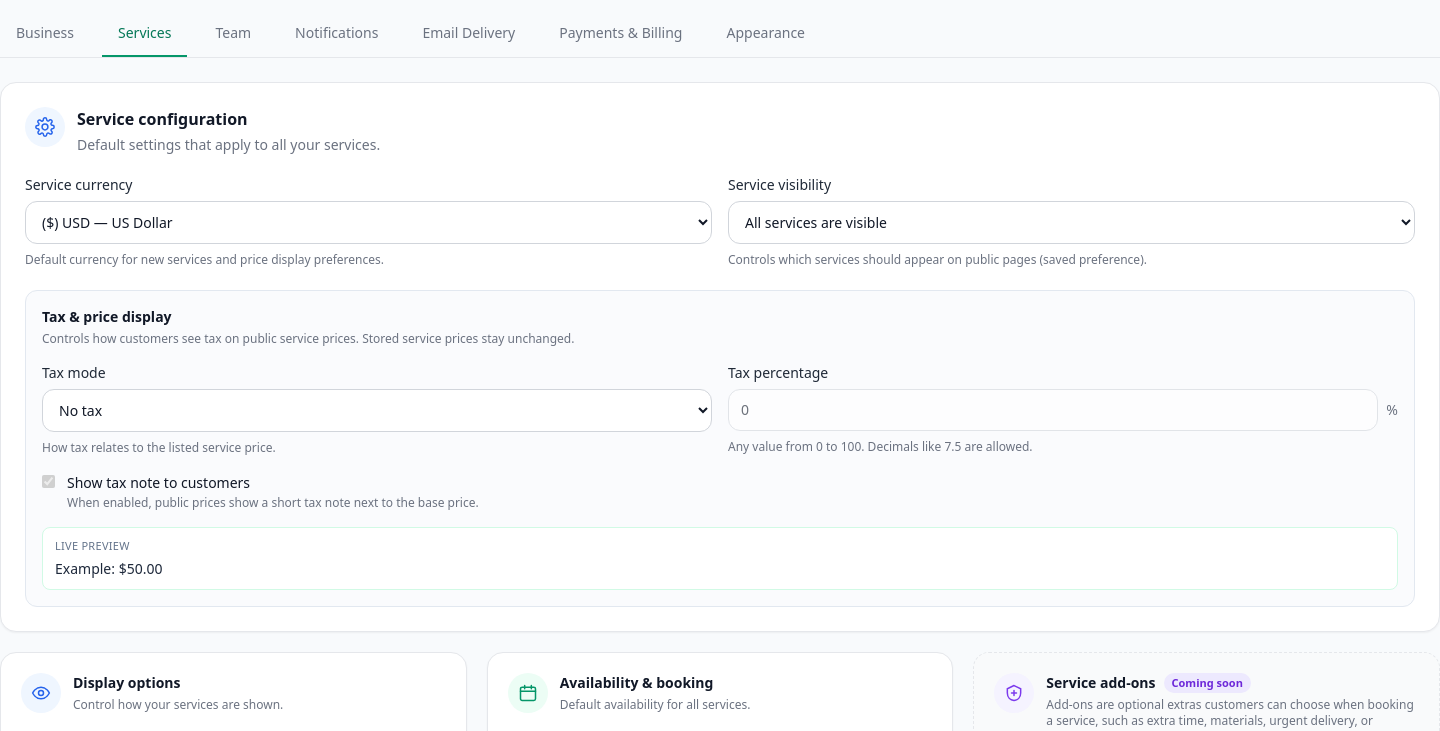
Test case: admin services settings › blocks invalid tax percentage save with field errors
Step 1. Select "Tax included in price" in the dropdown with test id "admin-services-tax" → x=377, y=410, box left=42, top=388, right=712, bottom=432
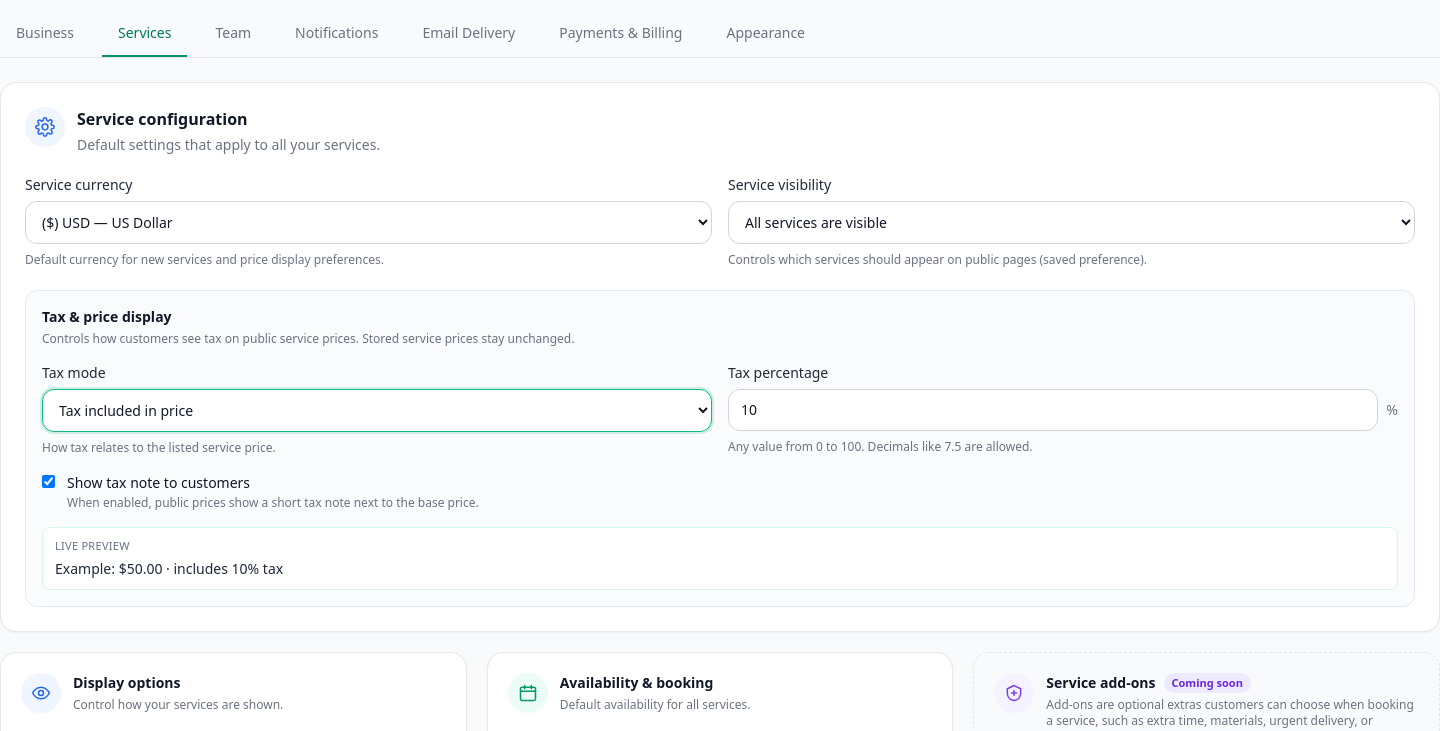
Step 2. Replace the text in the number field with test id "admin-services-tax-percent" with "150" → x=1053, y=410, box left=728, top=388, right=1378, bottom=430
(page scrolled)
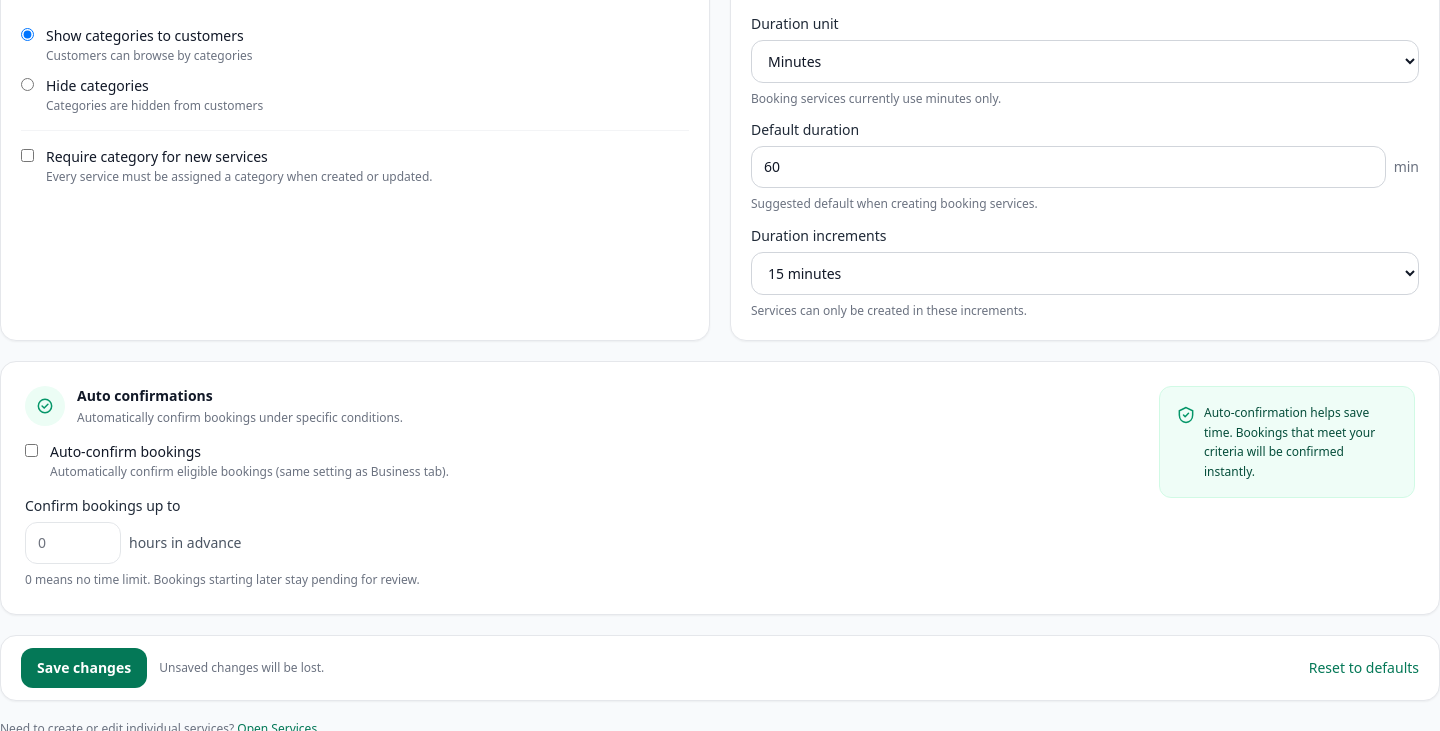
Step 3. Click the button with test id "admin-services-settings-save" → x=84, y=668, box left=21, top=648, right=147, bottom=688
(page scrolled)
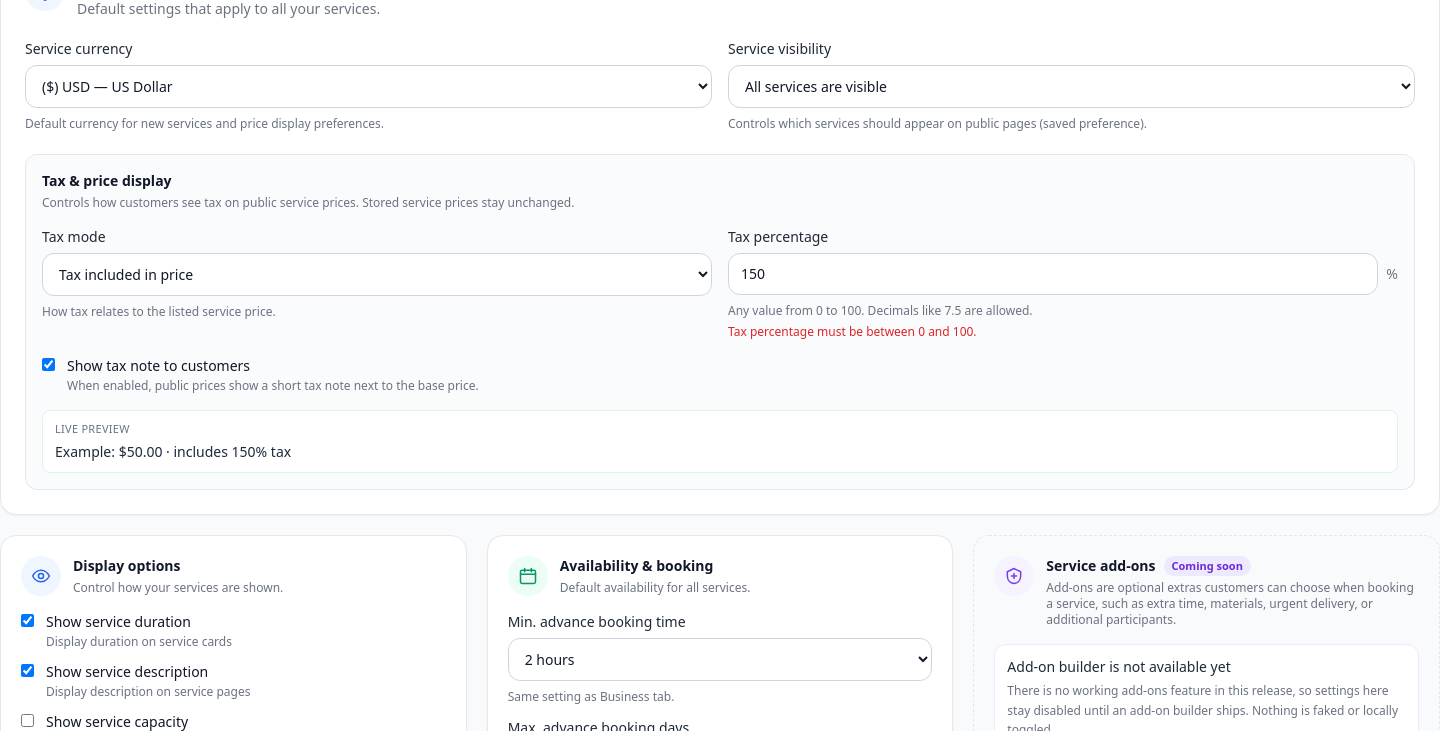
Check: the text "Tax percentage must be between 0 and 100." is shown, box left=728, top=323, right=977, bottom=340
